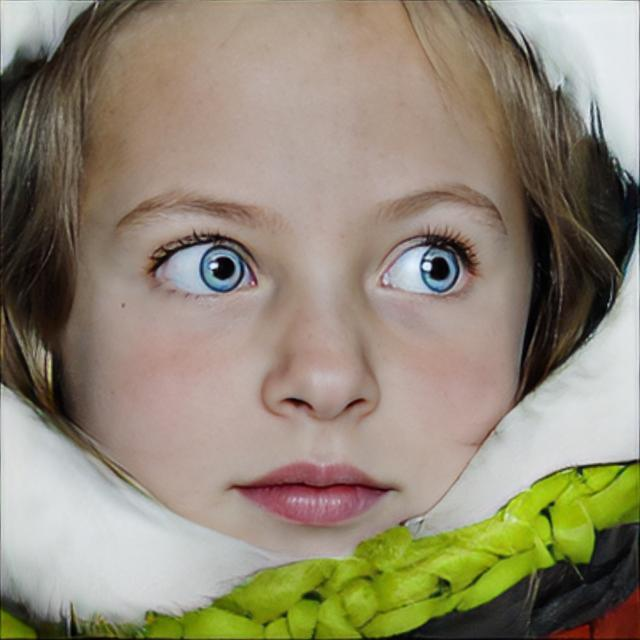fear: (52, 0, 537, 560)
